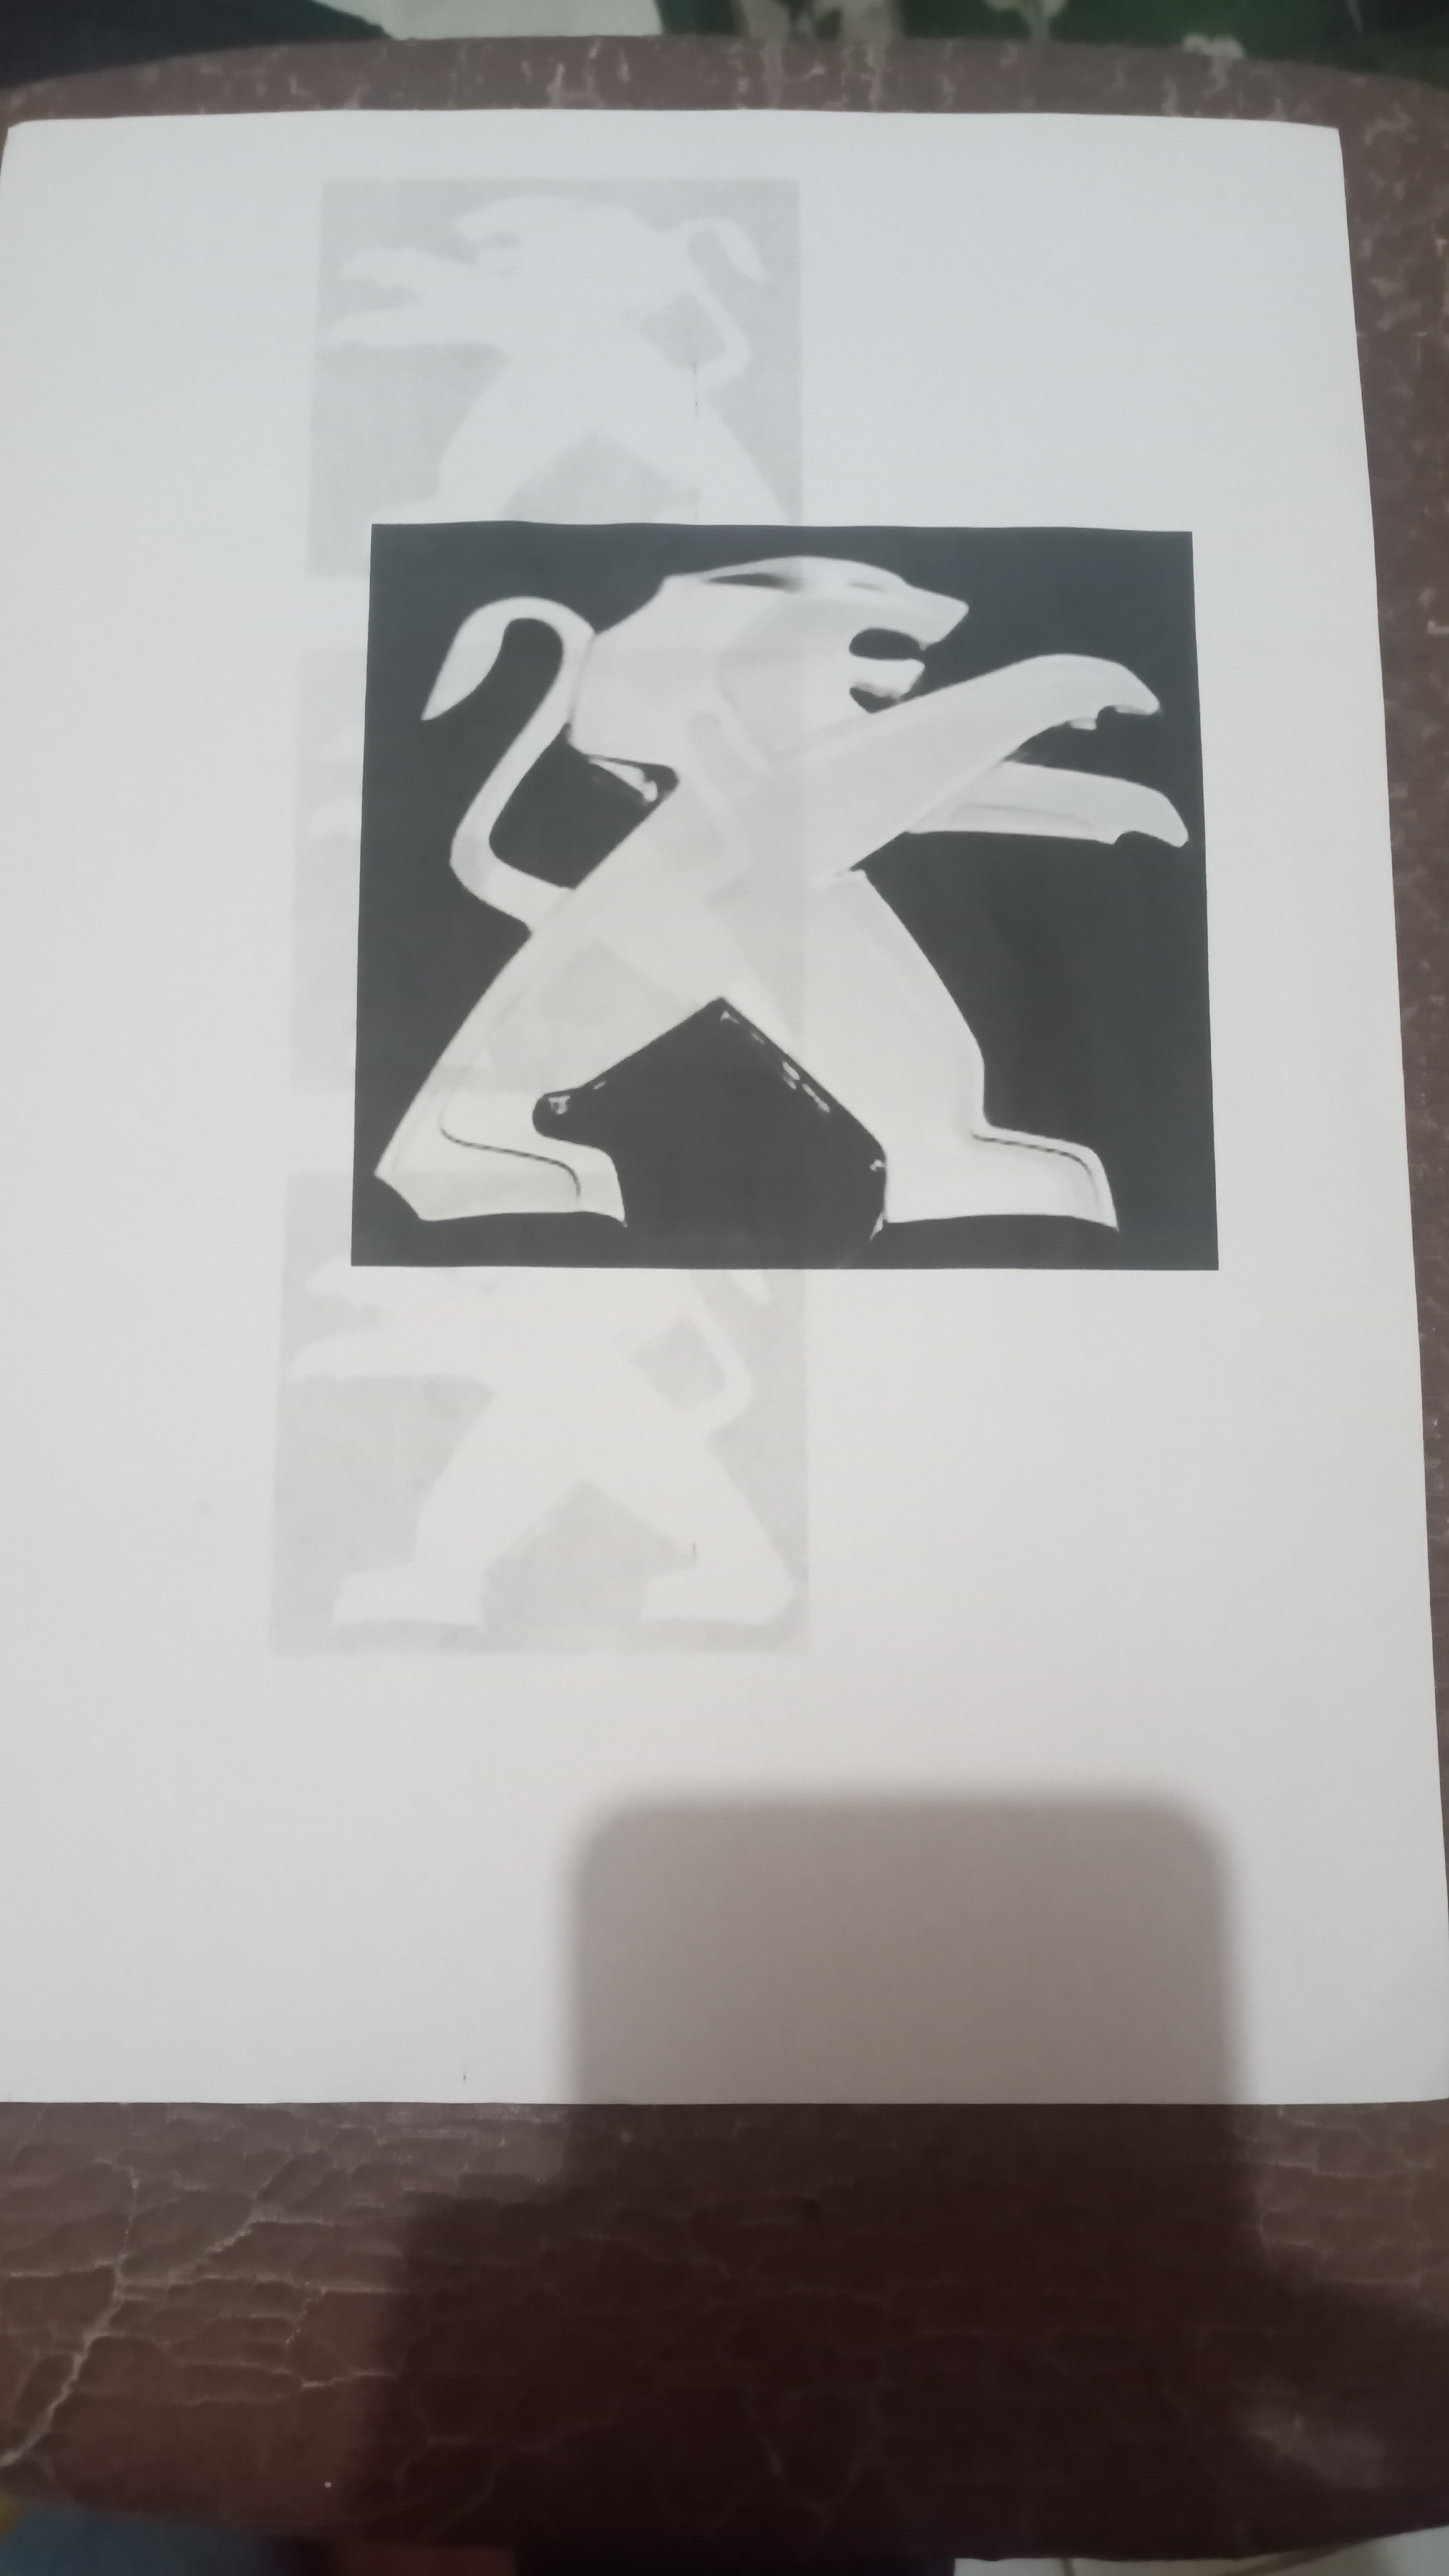Peugeot: (364, 536, 1198, 1258)
